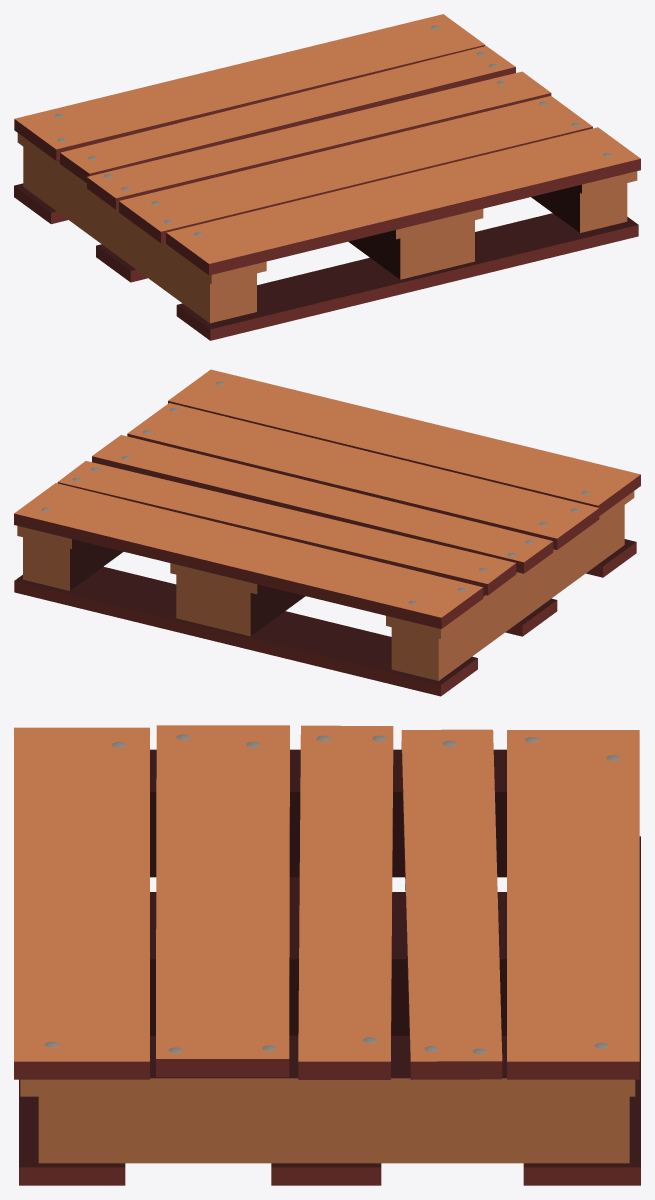
Rendered from Palette.fbx.
3 views of the same model, one above another, from view 1: azimuth 30°, elevation 25°; view 2: azimuth 150°, elevation 25°; view 3: azimuth 270°, elevation 25° (orthographic). The views are drawn at different scales.
Visible parts, largest first — view 1: Palette; view 2: Palette; view 3: Palette.
Part boxes in pixels (bbox=[...]): Palette: bbox=[14, 14, 640, 340]; Palette: bbox=[14, 369, 640, 696]; Palette: bbox=[14, 725, 640, 1185].
Bounding box in the file's own units: 438 × 76.67 × 345.
